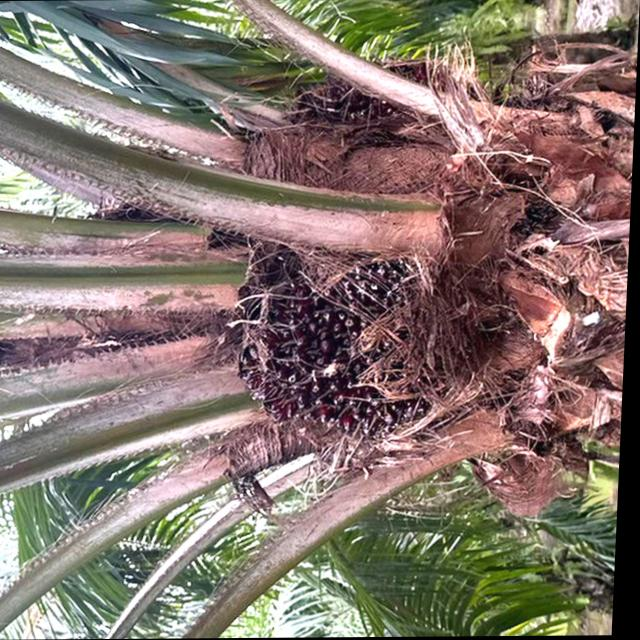ripe: (219, 225, 457, 454)
